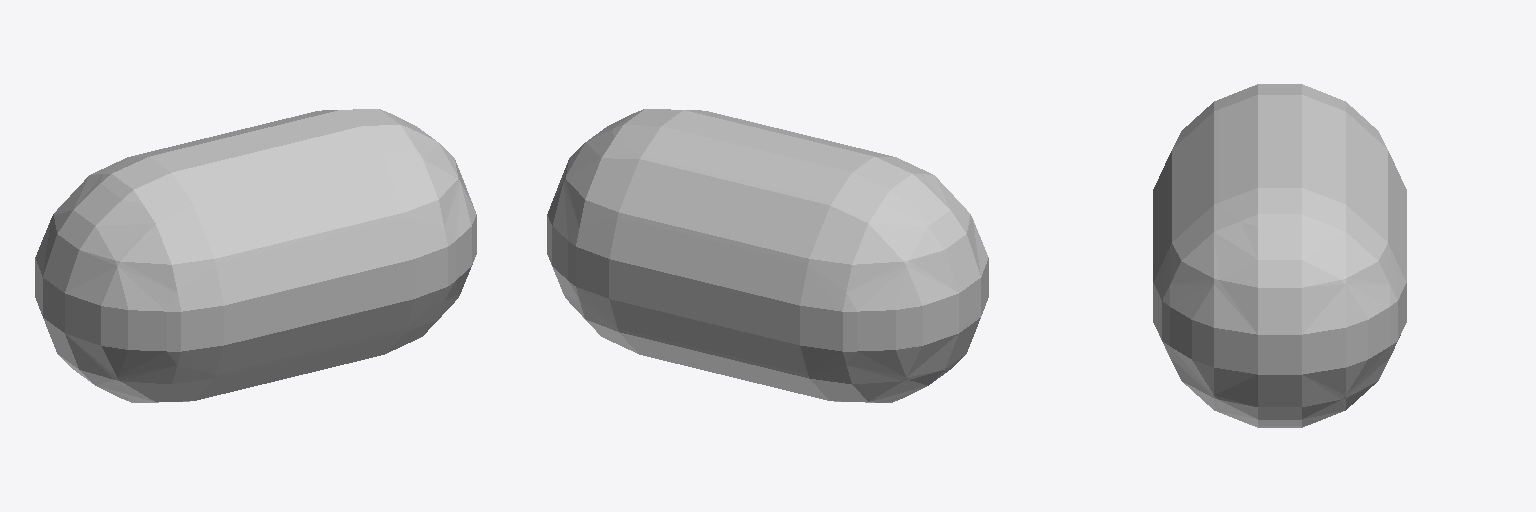
Rendered from pill.obj.
The picture shows the model from 3 angles: view 1: azimuth 30°, elevation 25°; view 2: azimuth 150°, elevation 25°; view 3: azimuth 270°, elevation 25°; orthographic projection.
Parts seen in each view (by area): view 1: Mball_Meta.001; view 2: Mball_Meta.001; view 3: Mball_Meta.001.
Part boxes in pixels (x1,y1,x2,y2): Mball_Meta.001: (35,109,476,402); Mball_Meta.001: (547,109,988,402); Mball_Meta.001: (1153,84,1406,427).
Bounding box in the file's own units: 4.24 × 2.3 × 2.3.